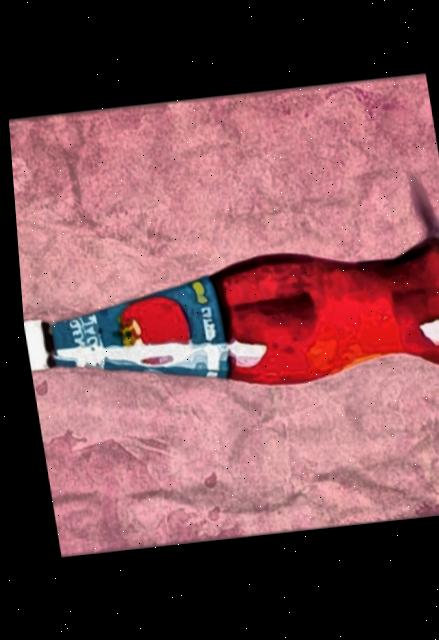La Botella: (5, 75, 439, 557)
